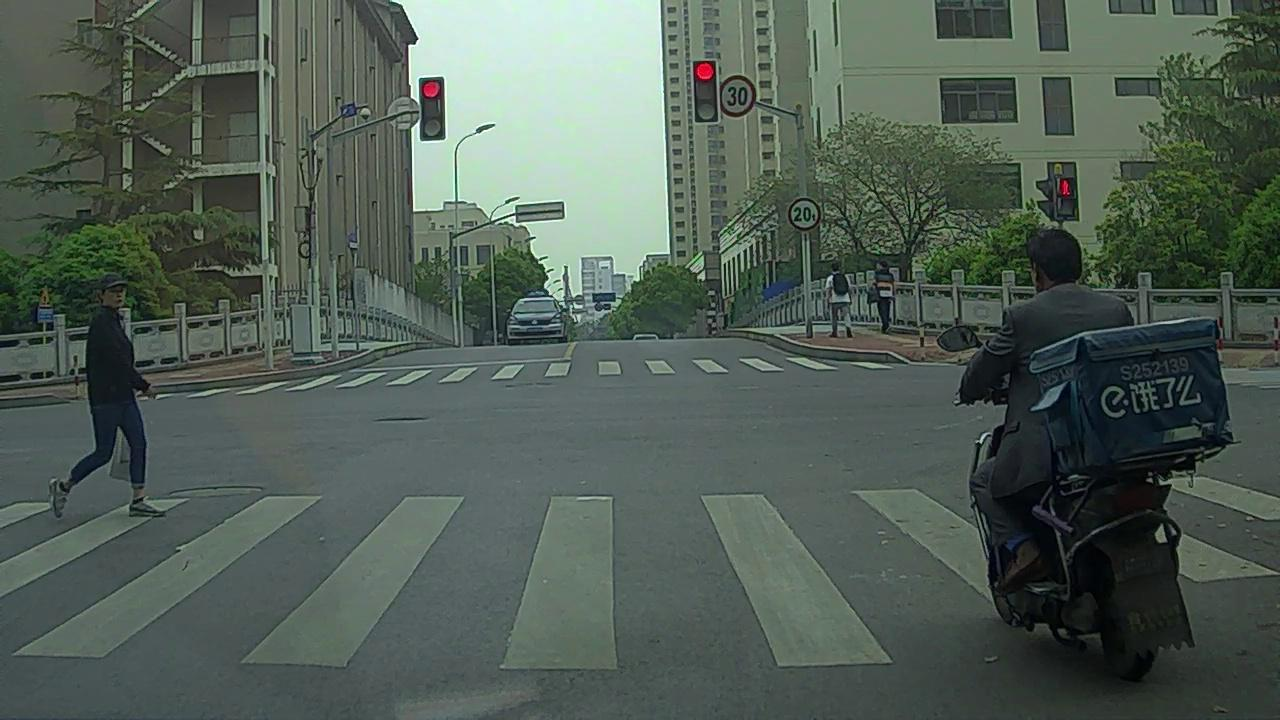traffic_light: (695, 61, 718, 122), (421, 80, 444, 139)
